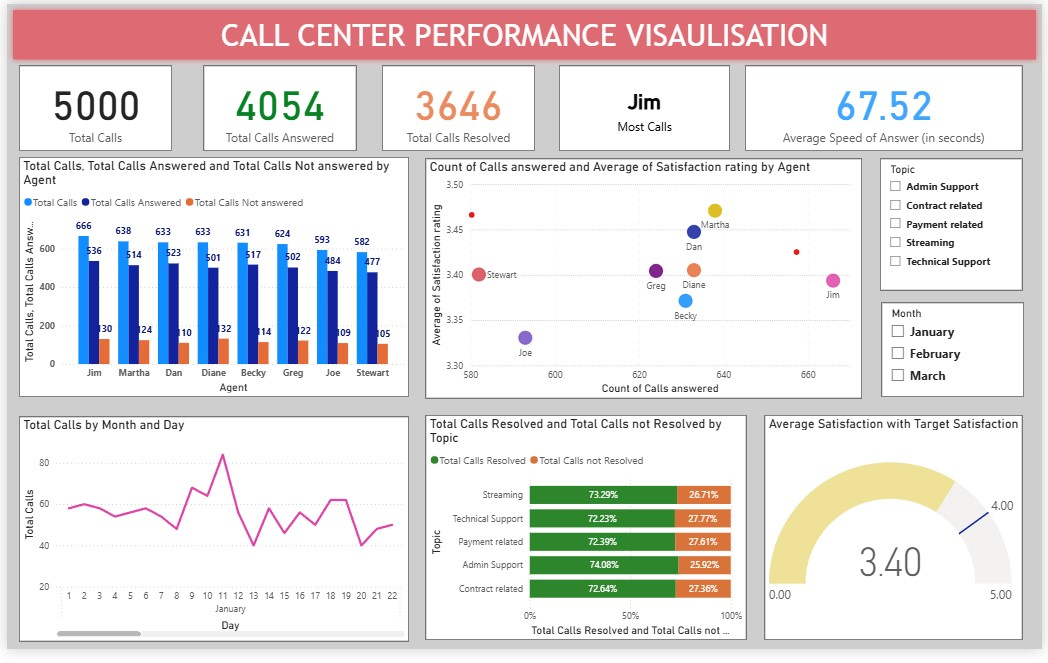

What the dashboard file says about the page in this screenshot:
{"tool":"powerbi","page":{"name":"Page 1","canvas":[1380,860],"ordinal":0},"visuals":[{"type":"lineChart","fields":{"Y":["Call Centre Records.Total Calls"],"Category":["Call Centre Records.Date.Variation.Date Hierarchy.Month","Call Centre Records.Date.Variation.Date Hierarchy.Day"]},"box":[16,550,520,300],"z":0},{"type":"gauge","title":"Average Satisfaction with Target Satisfaction","fields":{"Y":["Avg(Call Centre Records.Satisfaction rating)"],"MaxValue":["Call Centre Records.Max Satisfaction"],"TargetValue":["Call Centre Records.Target value satisfaction"]},"box":[1010,548,344,300],"z":1000},{"type":"card","fields":{"Values":["Avg(Call Centre Records.Speed of answer in seconds)"]},"box":[984,82,370,114],"z":2000},{"type":"slicer","fields":{"Values":["Call Centre Records.Date.Variation.Date Hierarchy.Month"]},"box":[1166,398,190,126],"z":3000},{"type":"slicer","fields":{"Values":["Call Centre Records.Topic"]},"box":[1164,206,190,176],"z":4000},{"type":"scatterChart","fields":{"Series":["Call Centre Records.Agent"],"X":["CountNonNull(Call Centre Records.Calls answered)"],"Y":["Avg(Call Centre Records.Satisfaction rating)"]},"box":[558,206,582,320],"z":5000},{"type":"clusteredColumnChart","fields":{"Y":["Call Centre Records.Total Calls","Call Centre Records.Total Calls Answered","Call Centre Records.Total Calls Not answered"],"Category":["Call Centre Records.Agent"]},"box":[16,204,520,320],"z":6000},{"type":"shape","box":[0,0,1380,82],"z":7000},{"type":"card","fields":{"Values":["Call Centre Records.Total Calls"]},"box":[16,82,204,114],"z":8000},{"type":"card","fields":{"Values":["Sum(Call Centre Records.Calls answered)"]},"box":[262,82,204,114],"z":9000},{"type":"card","fields":{"Values":["Sum(Call Centre Records.Calls resolved)"]},"box":[500,82,204,114],"z":10000},{"type":"card","fields":{"Values":["Min(Call Centre Records.Agent)"]},"box":[736,82,228,114],"z":12000},{"type":"hundredPercentStackedBarChart","fields":{"Y":["Sum(Call Centre Records.Calls resolved)","Sum(Call Centre Records.Calls not resolved)"],"Category":["Call Centre Records.Topic"]},"box":[558,548,428,300],"z":13000}]}

Visuals, with their boxes in screenshot pixels (x1, y1, x2, y2), scaled from the page's 1380x860 canvas onto the 1048x663 screenshot:
lineChart - Call Centre Records.Total Calls x Call Centre Records.Date.Variation.Date Hierarchy.Month: [x1=12, y1=424, x2=407, y2=655]
"Average Satisfaction with Target Satisfaction" gauge: [x1=767, y1=422, x2=1028, y2=654]
card - Avg(Call Centre Records.Speed of answer in seconds): [x1=747, y1=63, x2=1028, y2=151]
slicer - Call Centre Records.Date.Variation.Date Hierarchy.Month: [x1=885, y1=307, x2=1030, y2=404]
slicer - Call Centre Records.Topic: [x1=884, y1=159, x2=1028, y2=294]
scatterChart - Call Centre Records.Agent x CountNonNull(Call Centre Records.Calls answered): [x1=424, y1=159, x2=866, y2=406]
clusteredColumnChart - Call Centre Records.Total Calls x Call Centre Records.Total Calls Answered: [x1=12, y1=157, x2=407, y2=404]
shape: [x1=0, y1=0, x2=1047, y2=63]
card - Call Centre Records.Total Calls: [x1=12, y1=63, x2=167, y2=151]
card - Sum(Call Centre Records.Calls answered): [x1=199, y1=63, x2=354, y2=151]
card - Sum(Call Centre Records.Calls resolved): [x1=380, y1=63, x2=535, y2=151]
card - Min(Call Centre Records.Agent): [x1=559, y1=63, x2=732, y2=151]
hundredPercentStackedBarChart - Sum(Call Centre Records.Calls resolved) x Sum(Call Centre Records.Calls not resolved): [x1=424, y1=422, x2=749, y2=654]
